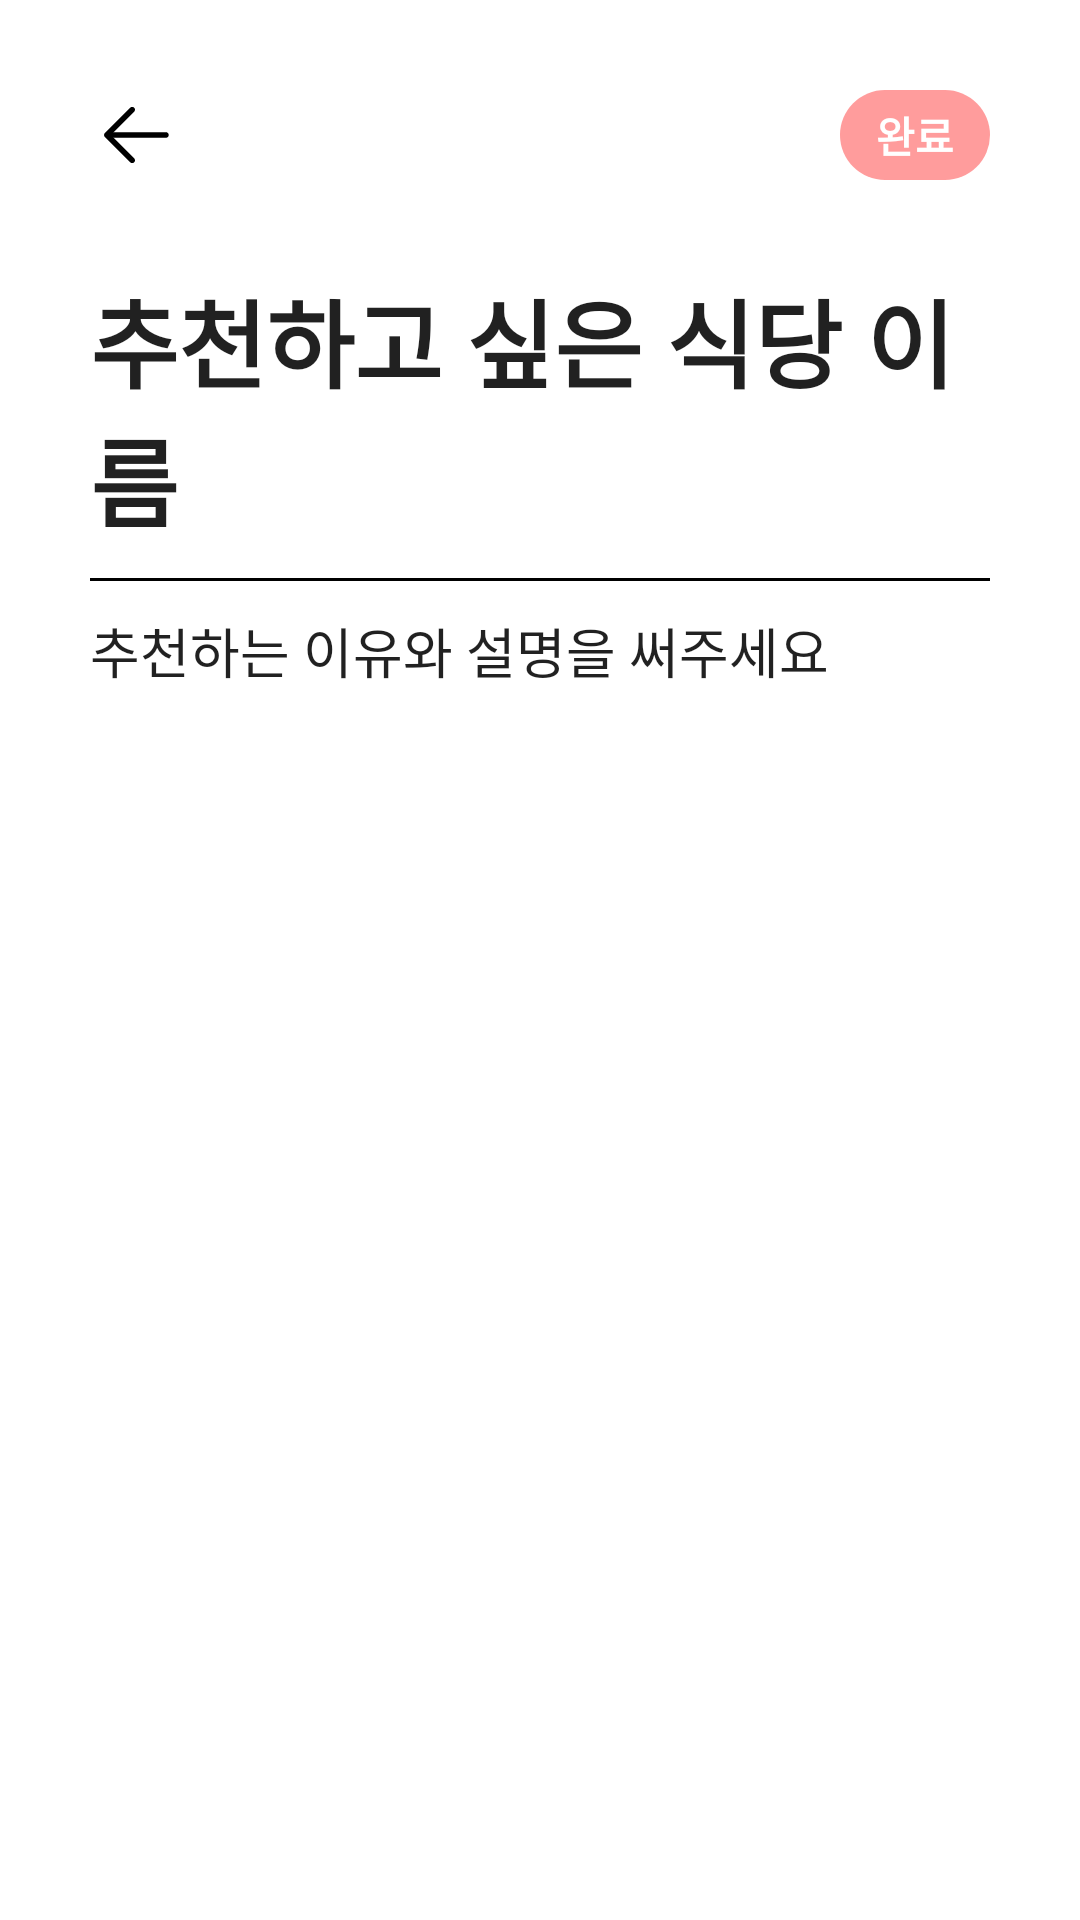

Icon click points for this 1080*1920 phone screenshot, format (x,y):
back: (136,135)
